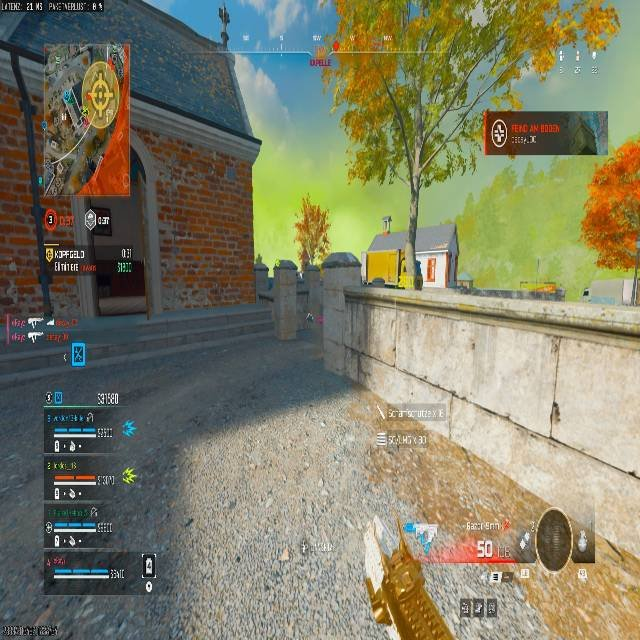player: (294, 202, 330, 271), (305, 312, 314, 329)
